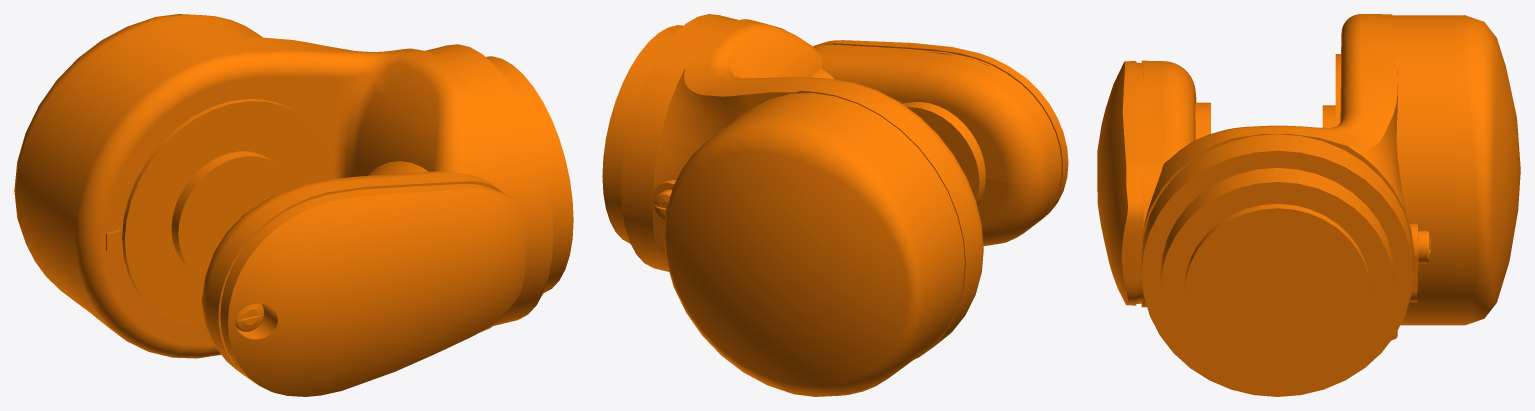
The picture shows the model from 3 angles, left to right: view 1: azimuth 30°, elevation 25°; view 2: azimuth 150°, elevation 25°; view 3: azimuth 270°, elevation 25°; orthographic projection. The views are drawn at different scales.
Parts seen in each view (by area): view 1: link_5; view 2: link_5; view 3: link_5.
Boxes of the visible parts, bbox=[...] form: link_5: bbox=[14, 14, 573, 396]; link_5: bbox=[602, 14, 1068, 396]; link_5: bbox=[1097, 14, 1520, 396].
Size of the model in its own units: 0.3411 by 0.3242 by 0.2402.
